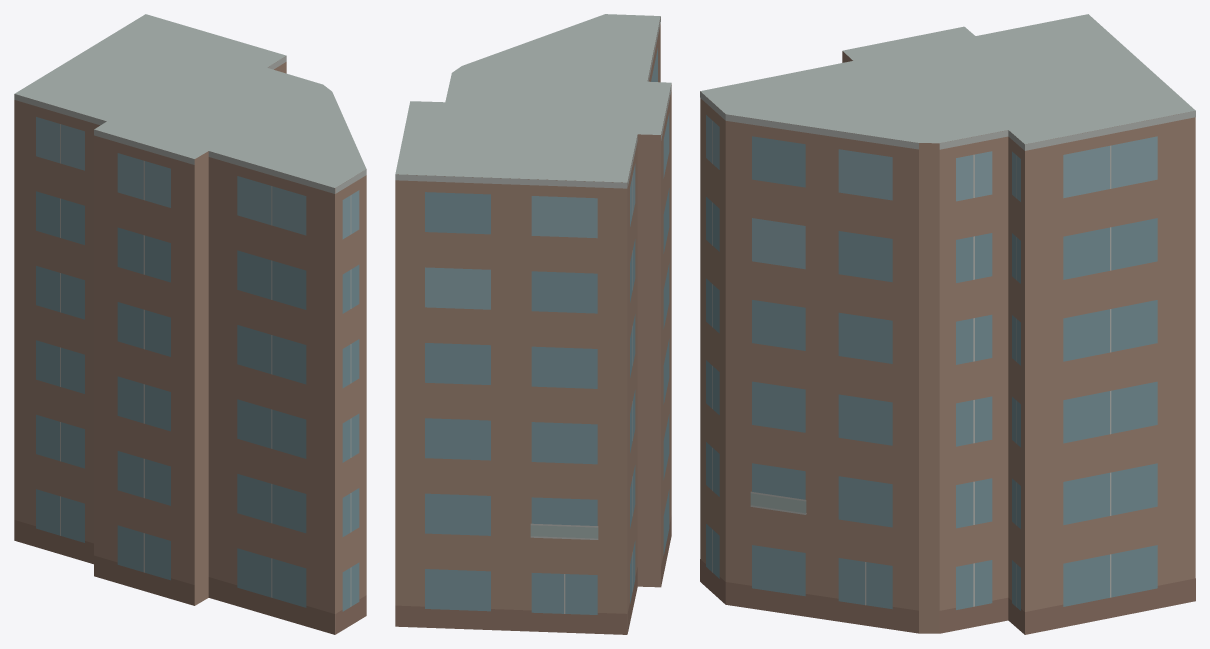
File: survey-upis-32698018.glb
3 renders of one model, left to right at view 1: azimuth 30°, elevation 25°; view 2: azimuth 150°, elevation 25°; view 3: azimuth 270°, elevation 25°, orthographic. The views are drawn at different scales.
Visible parts, largest first — view 1: survey-upis-32698018.tmp; view 2: survey-upis-32698018.tmp; view 3: survey-upis-32698018.tmp.
Part boxes in pixels (x1,y1,x2,y2): survey-upis-32698018.tmp: (14,14,366,634); survey-upis-32698018.tmp: (395,14,671,634); survey-upis-32698018.tmp: (700,14,1195,634).
Size of the model in its own units: 10.44 by 18.3 by 16.77.
